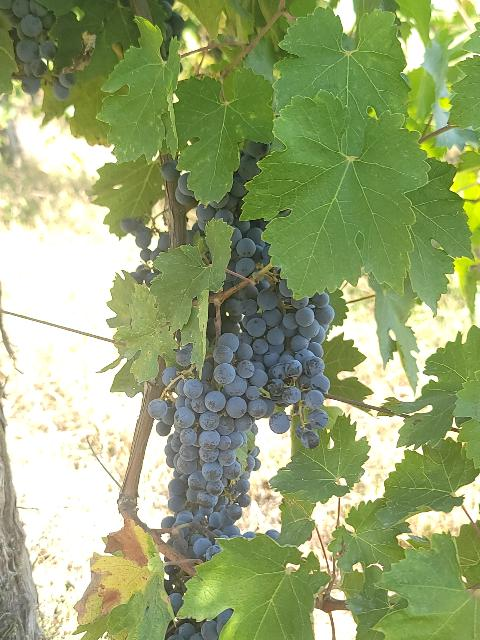grapes: (149, 332, 266, 560), (231, 280, 335, 449)
